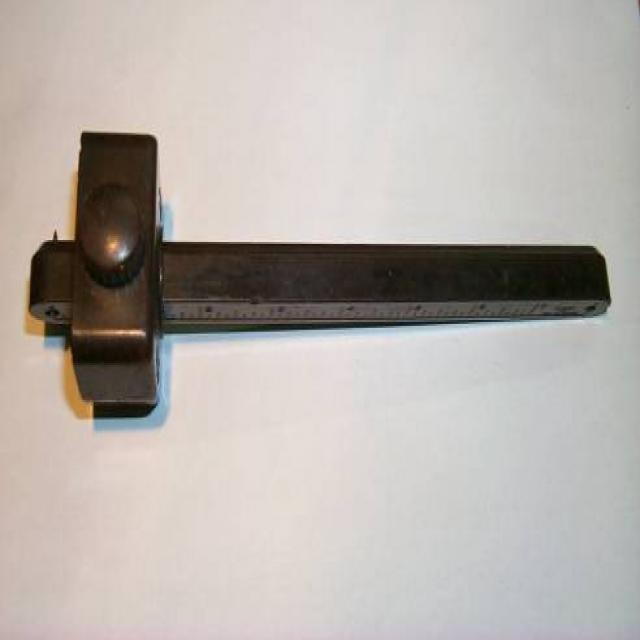hammer: (18, 114, 627, 433)
